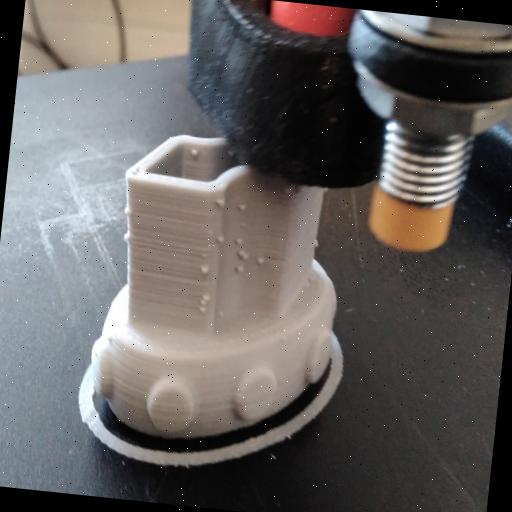blobs: (227, 194, 285, 284), (194, 192, 231, 320), (116, 200, 146, 251), (183, 144, 206, 165)
